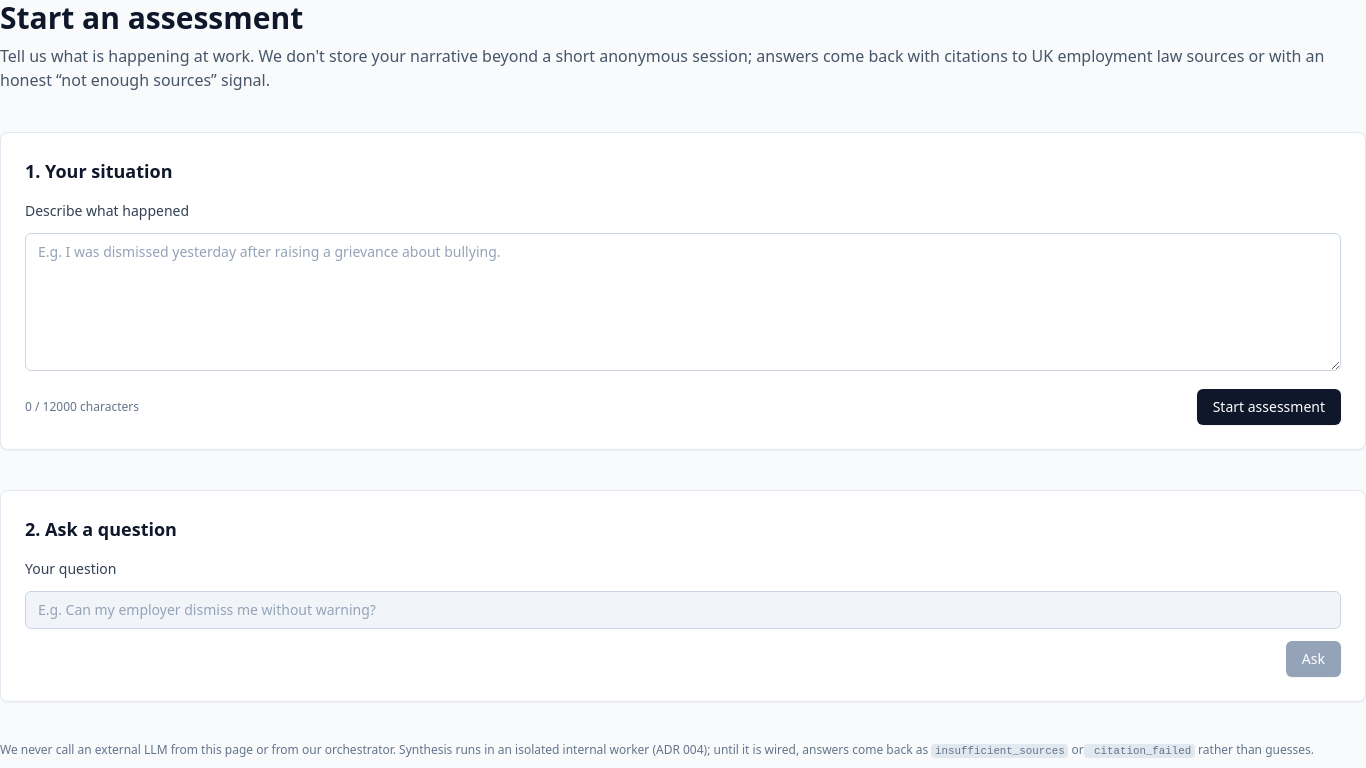
Test: /case/assessment page › renders an error alert when /api/orchestrator/legal/ask returns non-ok
Replace the text in the text box labelled "Describe what happened" with "I was dismissed without notice yesterday after raising a grievance about bullying at work last week.": (683, 302) top-left (25, 233), bottom-right (1341, 371)
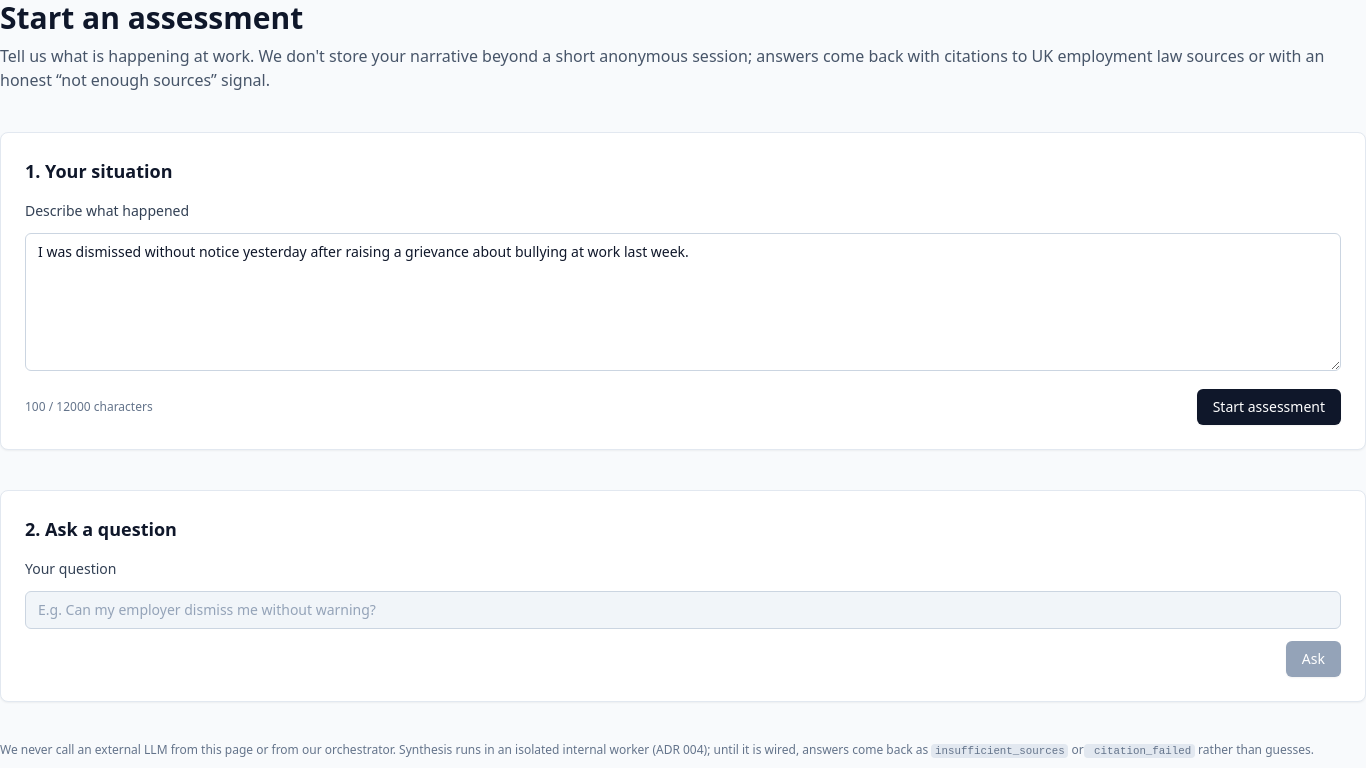
Submit the form labelled "Describe what happened", box top-left (25, 201), bottom-right (1341, 425)
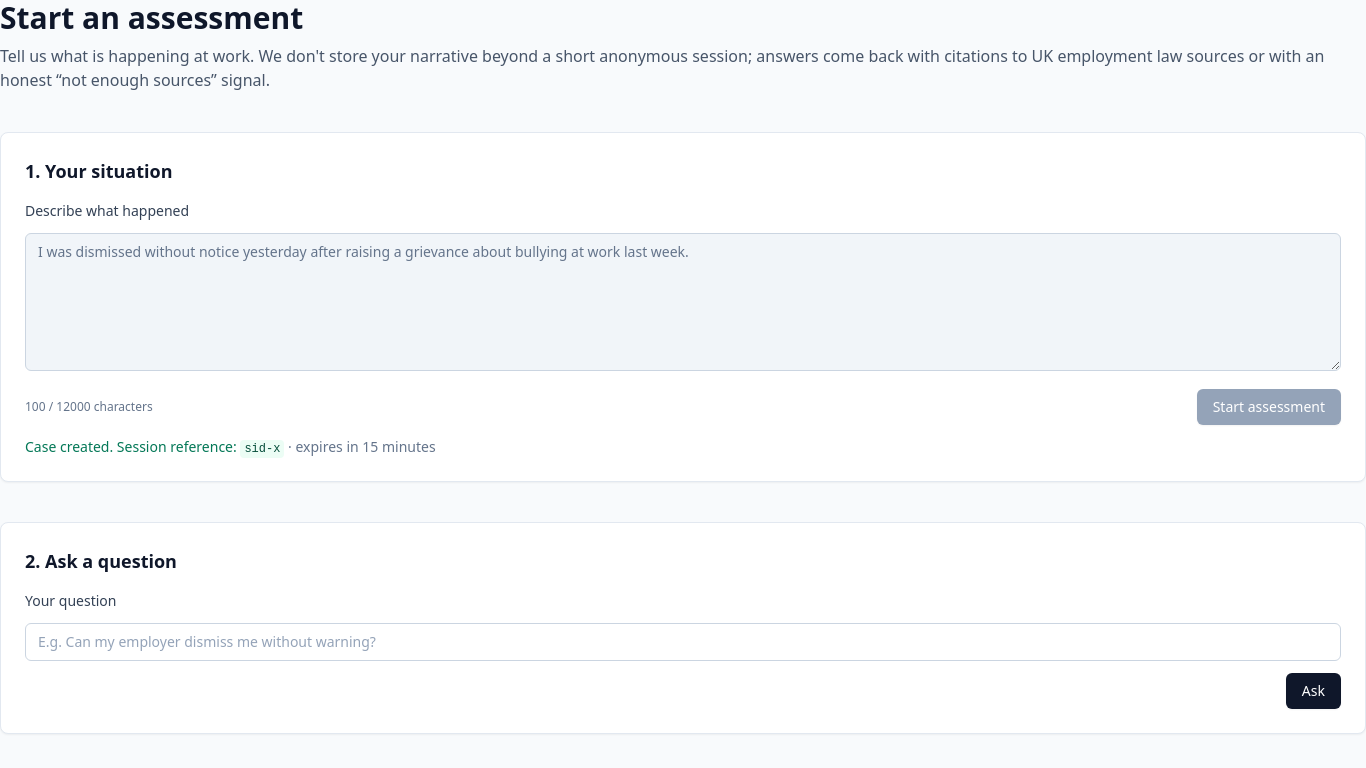
Expected: the text "Case created" is shown, top-left (25, 437), bottom-right (237, 456)
In the field labelled "Your question": (683, 642) top-left (25, 623), bottom-right (1341, 661), type "Test?"
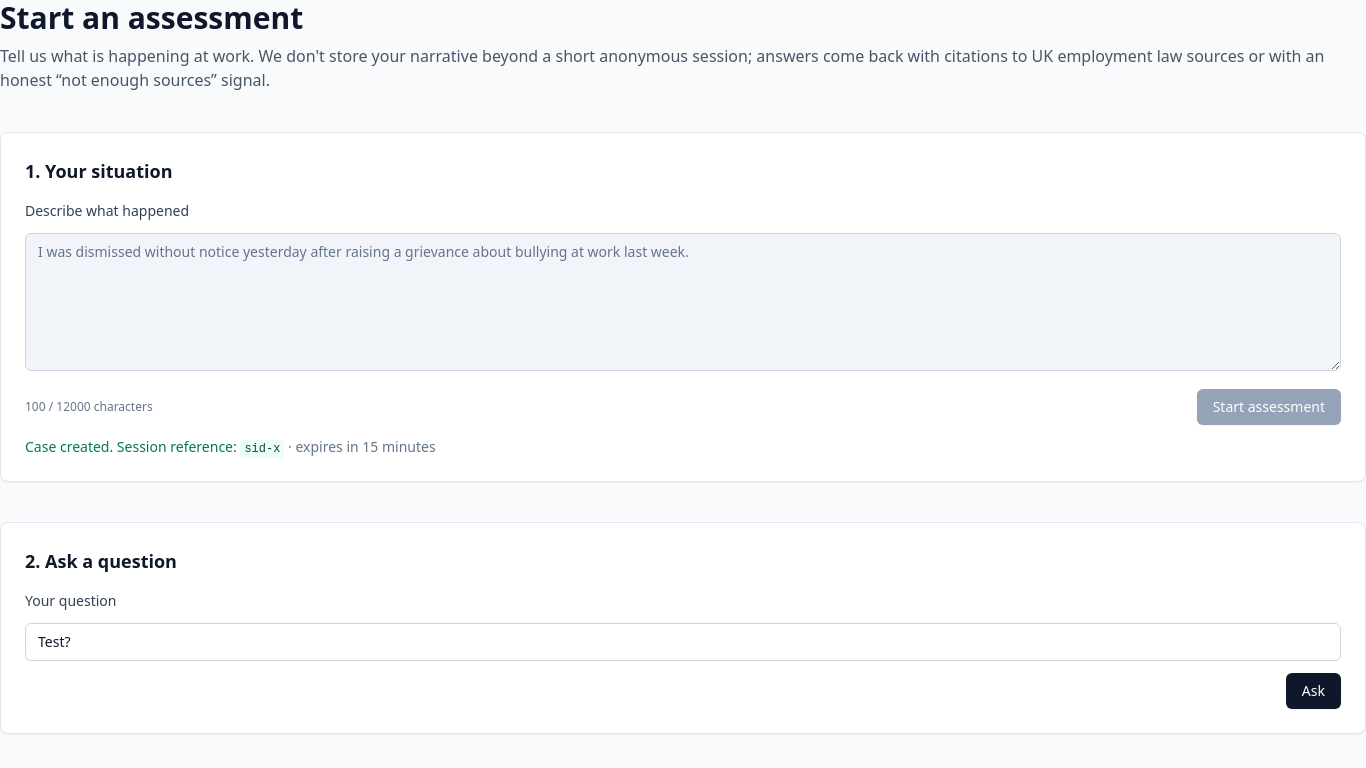
Submit the form labelled "Your question Ask", box top-left (25, 591), bottom-right (1341, 709)
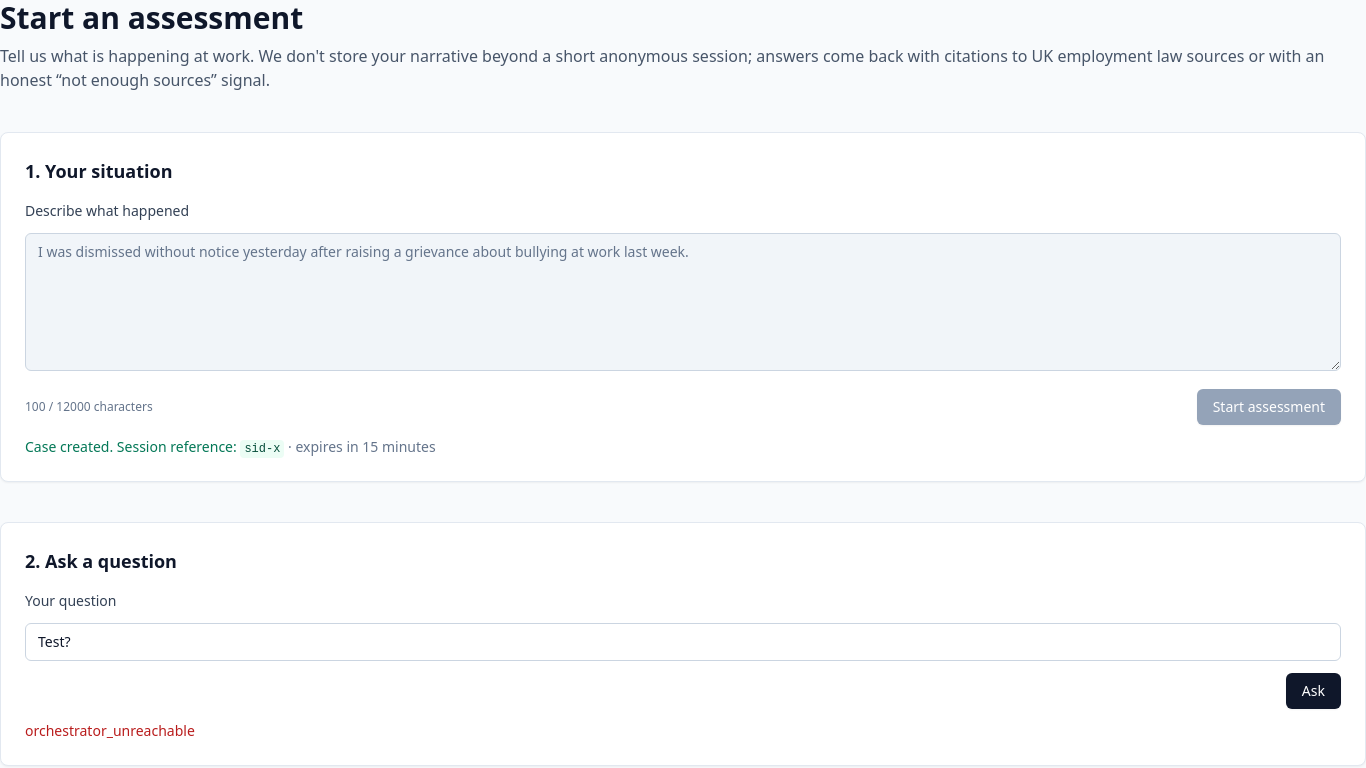
Expected: the message reads "orchestrator_unreachable", top-left (25, 721), bottom-right (195, 740)
